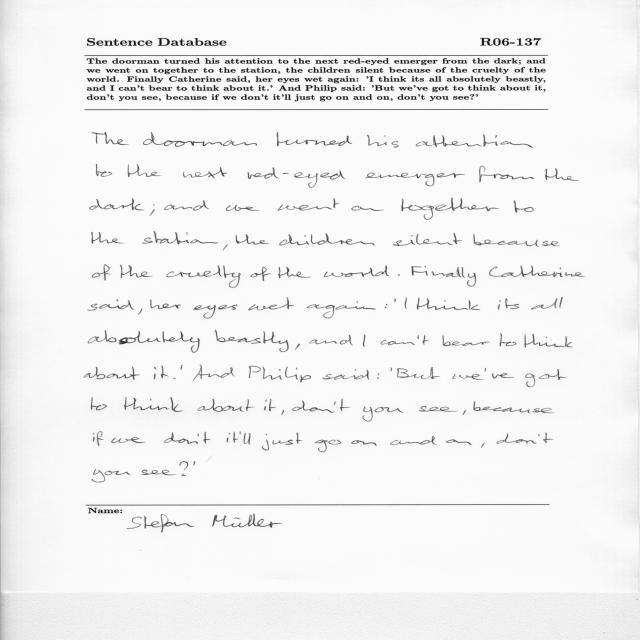word: (88, 330, 200, 353), (401, 198, 499, 220), (247, 167, 346, 188), (166, 265, 241, 288), (143, 132, 257, 147), (214, 330, 289, 352), (416, 134, 533, 148), (411, 266, 476, 287), (365, 173, 465, 186), (307, 302, 376, 319), (279, 234, 375, 246), (473, 234, 560, 247), (277, 133, 353, 147), (489, 266, 585, 277), (249, 366, 311, 383), (142, 232, 218, 245), (473, 401, 554, 413), (393, 233, 462, 246), (124, 397, 183, 412), (480, 166, 535, 182), (292, 399, 351, 413), (417, 297, 480, 310), (278, 198, 340, 211), (525, 369, 567, 387), (84, 367, 141, 380), (198, 399, 255, 412), (262, 433, 302, 451), (324, 266, 389, 277), (524, 334, 573, 348), (193, 365, 234, 381), (90, 199, 144, 211), (497, 433, 554, 444), (193, 305, 237, 319), (362, 407, 403, 422), (249, 298, 295, 311), (88, 299, 134, 311), (164, 432, 210, 444), (381, 335, 429, 346), (443, 335, 490, 346), (323, 369, 370, 380), (397, 367, 440, 379), (92, 470, 130, 483), (183, 167, 227, 178), (164, 201, 209, 211), (92, 133, 129, 145), (545, 168, 579, 181), (309, 335, 353, 345), (128, 165, 161, 178), (390, 436, 437, 445), (367, 135, 399, 148), (120, 265, 152, 278), (92, 232, 125, 244), (531, 298, 563, 310), (236, 234, 270, 245), (278, 267, 311, 278), (315, 440, 341, 452), (92, 265, 111, 281), (485, 368, 515, 378), (251, 267, 271, 281), (150, 300, 181, 309), (514, 200, 534, 213), (419, 406, 458, 412), (498, 299, 519, 310), (500, 334, 517, 347), (97, 164, 113, 177), (91, 398, 107, 411), (226, 205, 260, 211), (112, 437, 146, 443), (453, 374, 484, 380), (154, 366, 168, 379), (142, 470, 176, 475), (351, 206, 384, 211), (93, 431, 104, 446), (351, 440, 377, 446), (446, 439, 472, 445), (240, 431, 251, 445), (264, 399, 276, 411), (180, 461, 189, 476), (227, 432, 239, 443), (150, 204, 155, 216), (223, 244, 228, 251), (295, 343, 300, 350), (139, 308, 143, 315), (363, 335, 365, 347), (405, 298, 407, 309), (481, 443, 485, 448), (281, 410, 284, 415), (463, 410, 466, 415), (385, 304, 388, 308), (181, 365, 183, 370), (377, 374, 379, 379), (194, 461, 196, 466), (394, 299, 396, 302), (398, 274, 400, 276), (391, 368, 392, 372), (173, 378, 176, 379)
